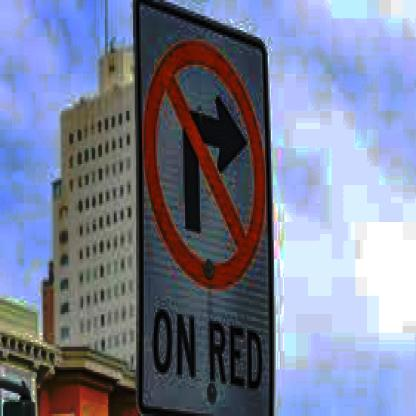No right turn: (145, 36, 266, 289)
